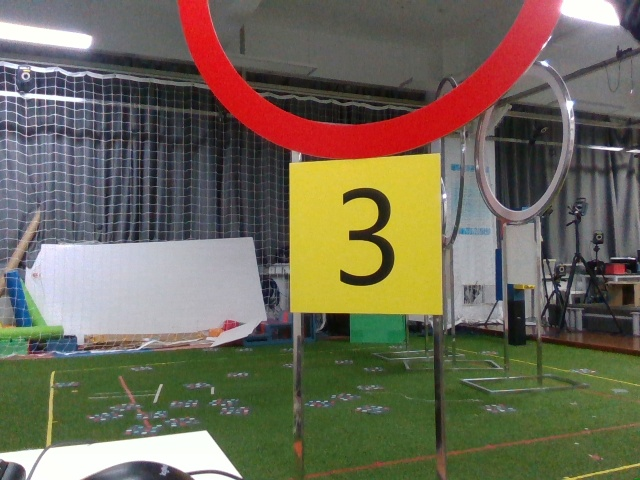target: (293, 168, 436, 311)
